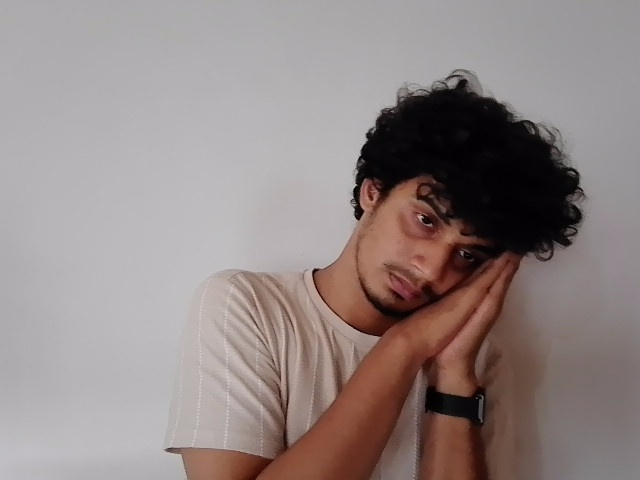sleep: (378, 234, 522, 355)
